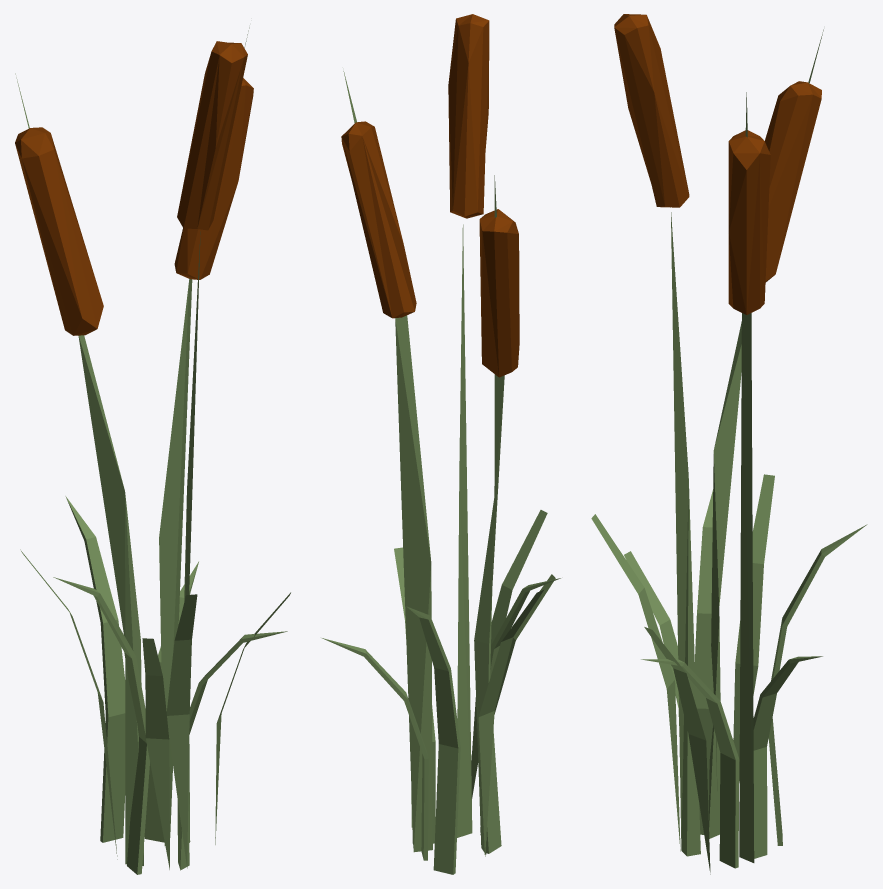
File: horsetail.glb
The picture shows the model from 3 angles, left to right: view 1: azimuth 30°, elevation 25°; view 2: azimuth 150°, elevation 25°; view 3: azimuth 270°, elevation 25°; orthographic projection. The views are drawn at different scales.
Visible parts, largest first — view 1: Node; view 2: Node; view 3: Node.
Boxes of the visible parts, left/top/right/bottom form: Node: left=15, top=27, right=290, bottom=874; Node: left=322, top=14, right=560, bottom=874; Node: left=591, top=14, right=867, bottom=874.
Size of the model in its own units: 3.44 by 12.42 by 3.68.
